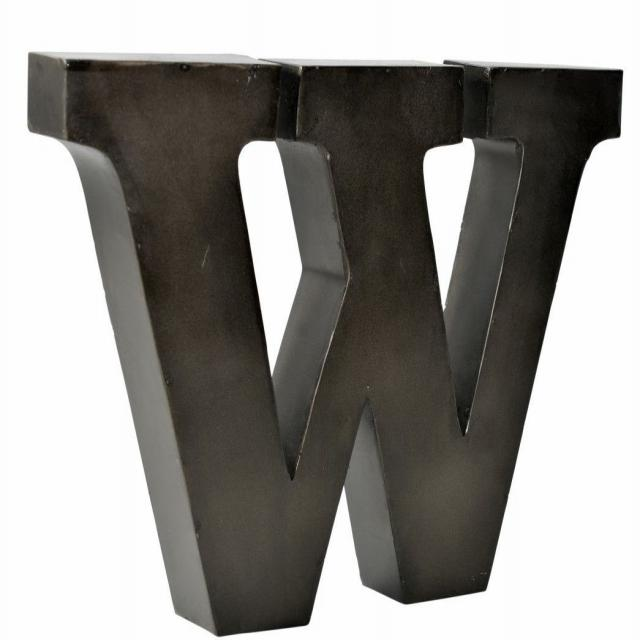W: (15, 20, 632, 638)
